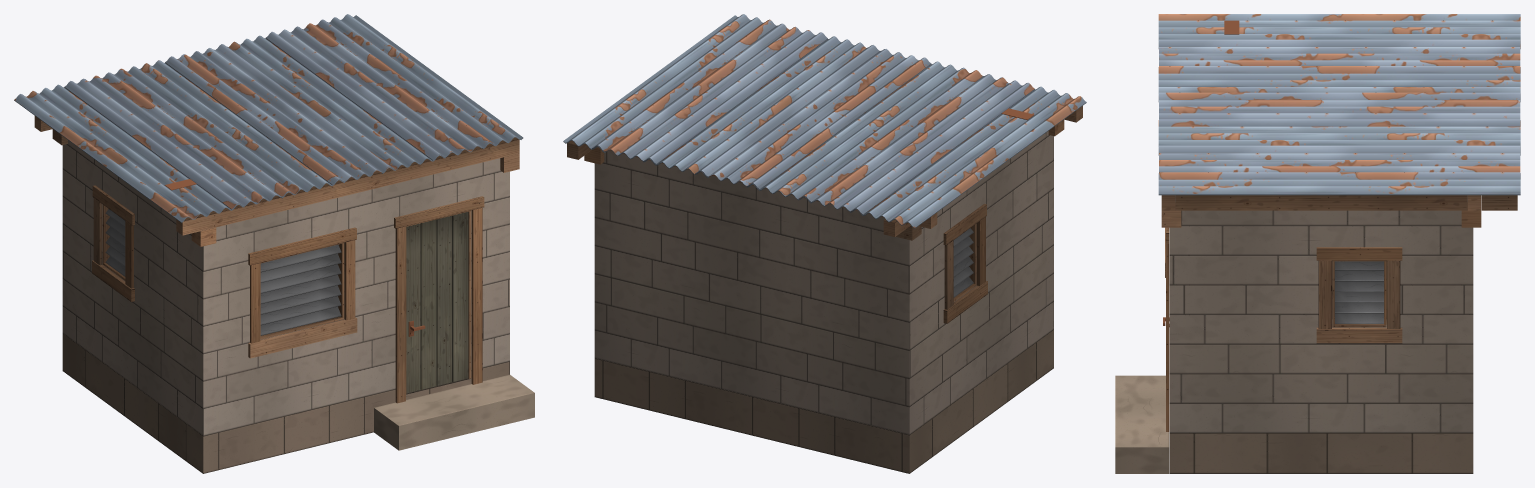
Rendered from houdini_block_shed_v6.glb.
The picture shows the model from 3 angles, left to right: view 1: azimuth 30°, elevation 25°; view 2: azimuth 150°, elevation 25°; view 3: azimuth 270°, elevation 25°; orthographic projection. The views are drawn at different scales.
Visible parts, largest first — view 1: LOD0; view 2: LOD0; view 3: LOD0.
Boxes of the visible parts, left/top/right/bottom form: LOD0: left=14, top=14, right=534, bottom=473; LOD0: left=563, top=14, right=1086, bottom=473; LOD0: left=1115, top=14, right=1520, bottom=473.
Size of what is drawn, in the model's own units: 4.35 by 3.25 by 4.13.
5 materials, 5 textured.
